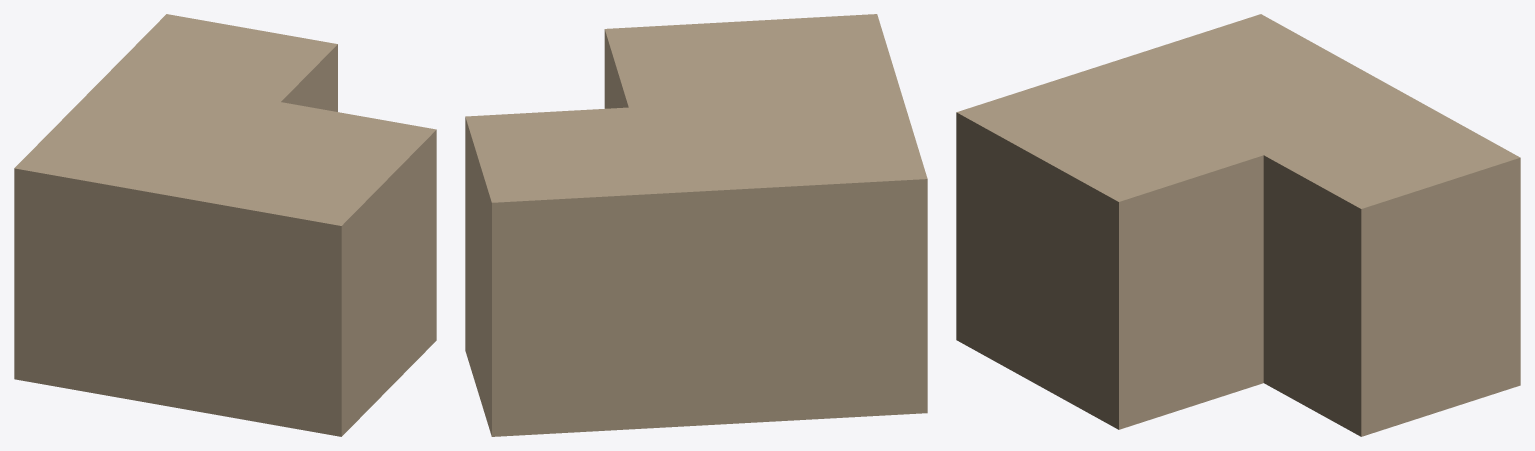
File: bld_101805791.dae
3 views of the same model, side by side, from view 1: azimuth 30°, elevation 25°; view 2: azimuth 150°, elevation 25°; view 3: azimuth 270°, elevation 25° (orthographic). The views are drawn at different scales.
Visible parts, largest first — view 1: bld_101805791; view 2: bld_101805791; view 3: bld_101805791.
Boxes of the visible parts, box(x1,y1,x2,y2) form: bld_101805791: box(14, 14, 436, 436); bld_101805791: box(465, 14, 927, 436); bld_101805791: box(956, 14, 1520, 436).
Size of the model in its own units: 14.69 by 17.95 by 8.
